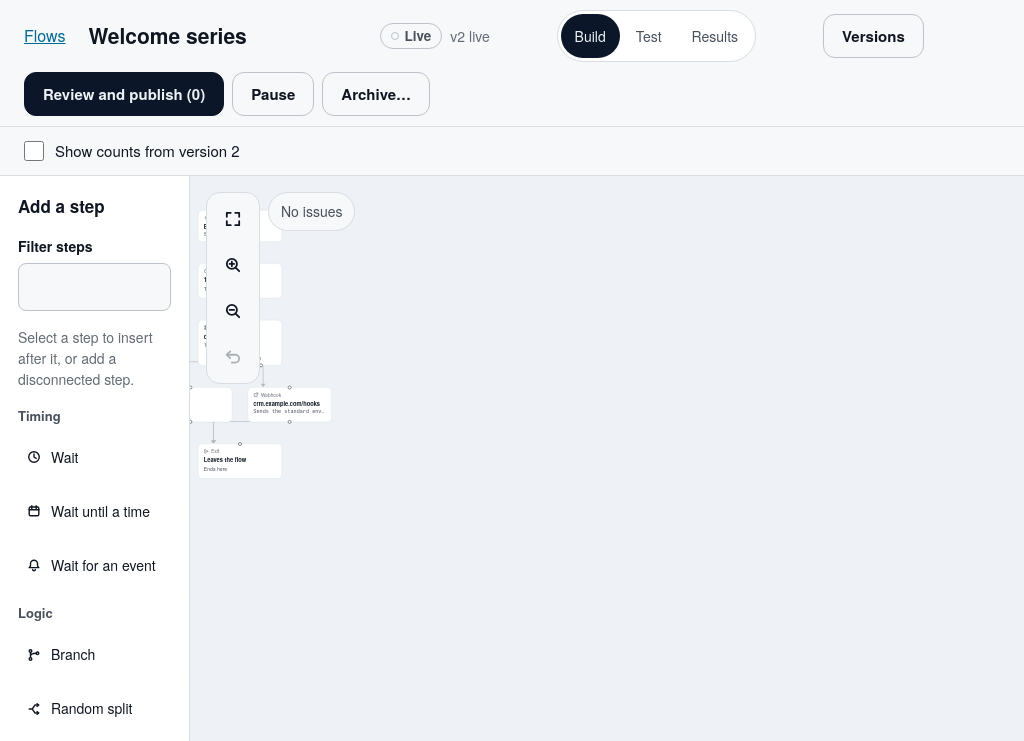
archive › asks first, and sends nothing on Cancel
Click the button "Archive…" at (376, 94), box [322,72,430,116]
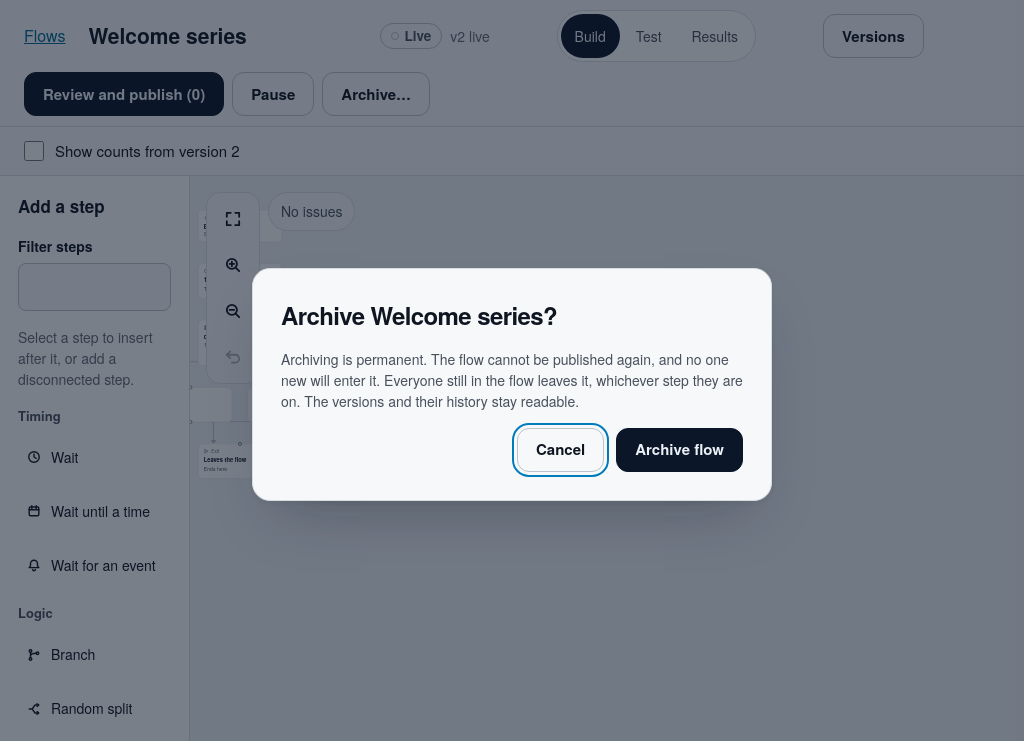
Expected: the dialog "Archive Welcome series?" shows "permanent", [281,348,743,410]
Expected: the dialog "Archive Welcome series?" shows "cannot be published again", [281,348,743,410]
Expected: the dialog "Archive Welcome series?" shows "Everyone still in the flow leaves it", [281,348,743,410]
Click the button "Cancel" at (561, 450), box [517,428,604,472]
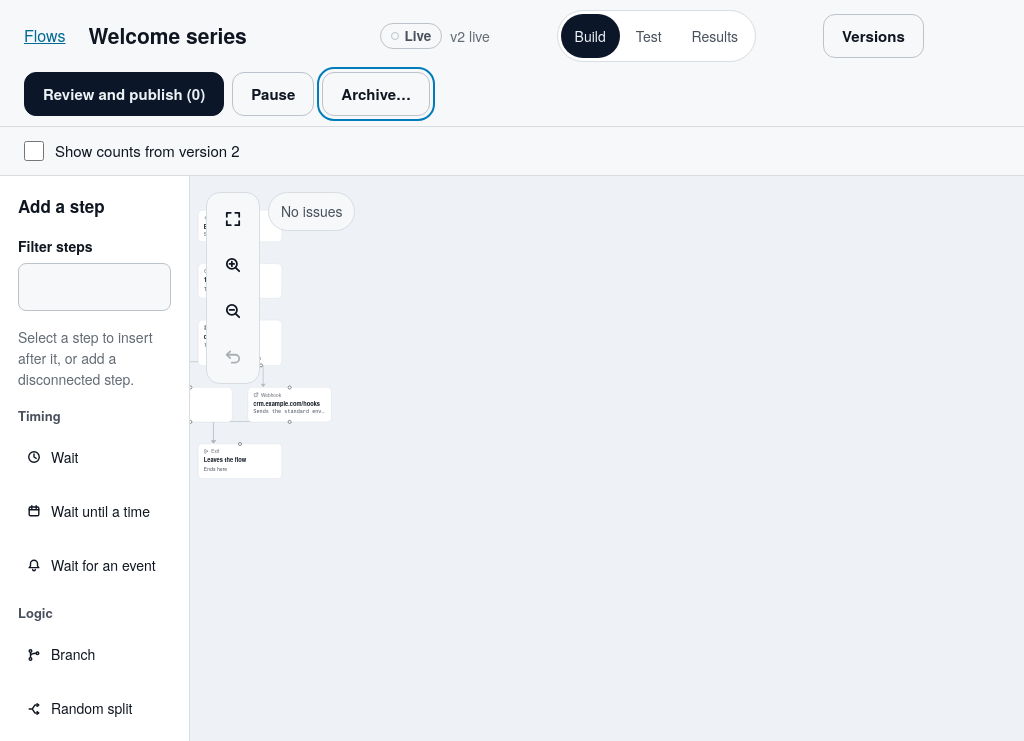
Expected: the dialog is gone
